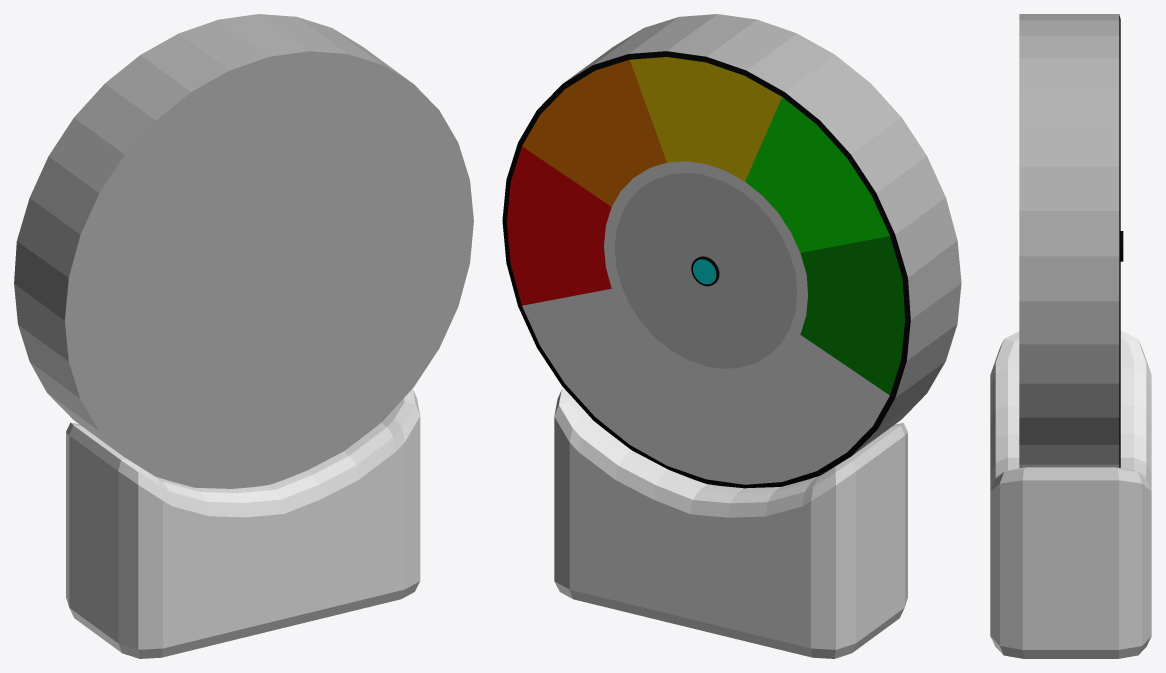
Rendered from stoika 1.fbx.
3 renders of one model, left to right at view 1: azimuth 30°, elevation 25°; view 2: azimuth 150°, elevation 25°; view 3: azimuth 270°, elevation 25°, orthographic.
Parts seen in each view (by area): view 1: Цилиндр, Куб; view 2: Цилиндр, Куб; view 3: Цилиндр, Куб.
Boxes of the visible parts, left/top/right/bottom form: Цилиндр: left=14, top=14, right=473, bottom=488; Куб: left=66, top=389, right=420, bottom=658; Цилиндр: left=502, top=14, right=961, bottom=488; Куб: left=554, top=388, right=907, bottom=658; Цилиндр: left=1019, top=14, right=1123, bottom=468; Куб: left=990, top=330, right=1151, bottom=658.
Bounding box in the file's own units: 12.08 × 16.01 × 4.19.
